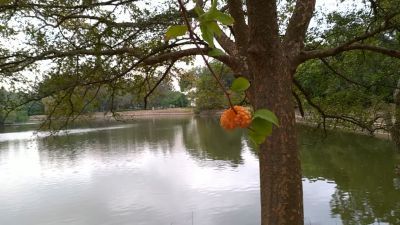eggs: (218, 103, 254, 132)
